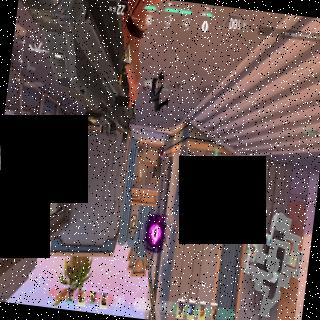ENEMY-BODY: (160, 146, 164, 162), (40, 148, 44, 155)
